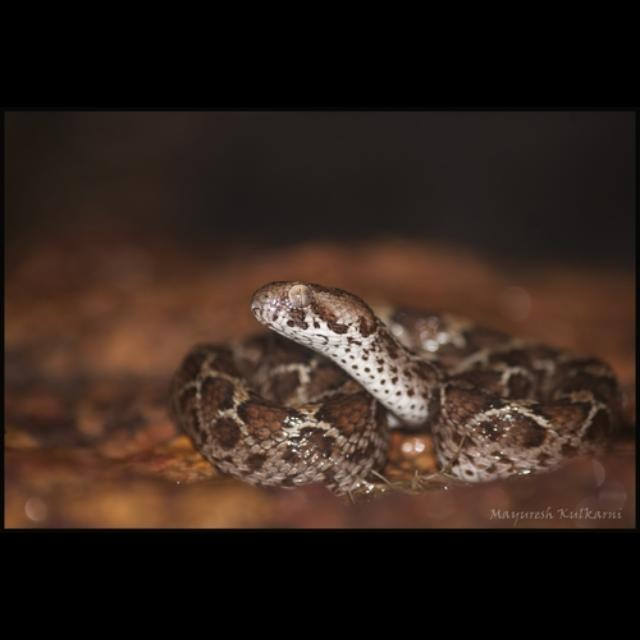snake: (164, 272, 640, 486)
